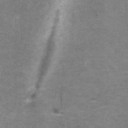finishing roll printing: (35, 10, 61, 90), (30, 92, 37, 100), (53, 107, 59, 114)
